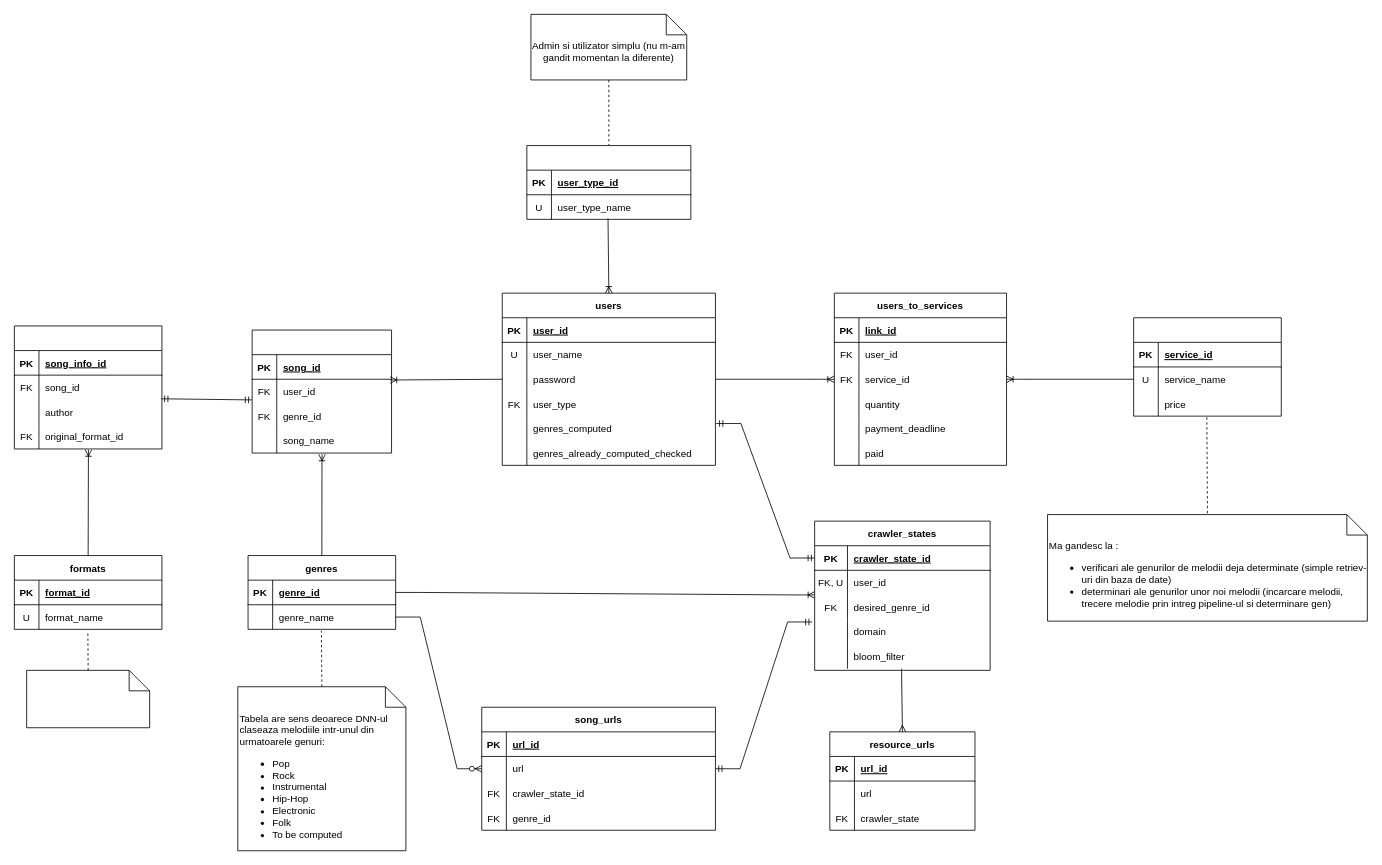
Image size: 1382x865. Some labels were removed from this diagram. Here are the shapes that lost their labels. From the top down, the box of each, then its label:
(526, 145, 691, 219): user_types
(1133, 317, 1281, 416): services
(14, 325, 162, 449): songs_info
(251, 329, 392, 453): songs
(26, 670, 150, 728): Momentan doar MP3, poate si altele pe viitor
